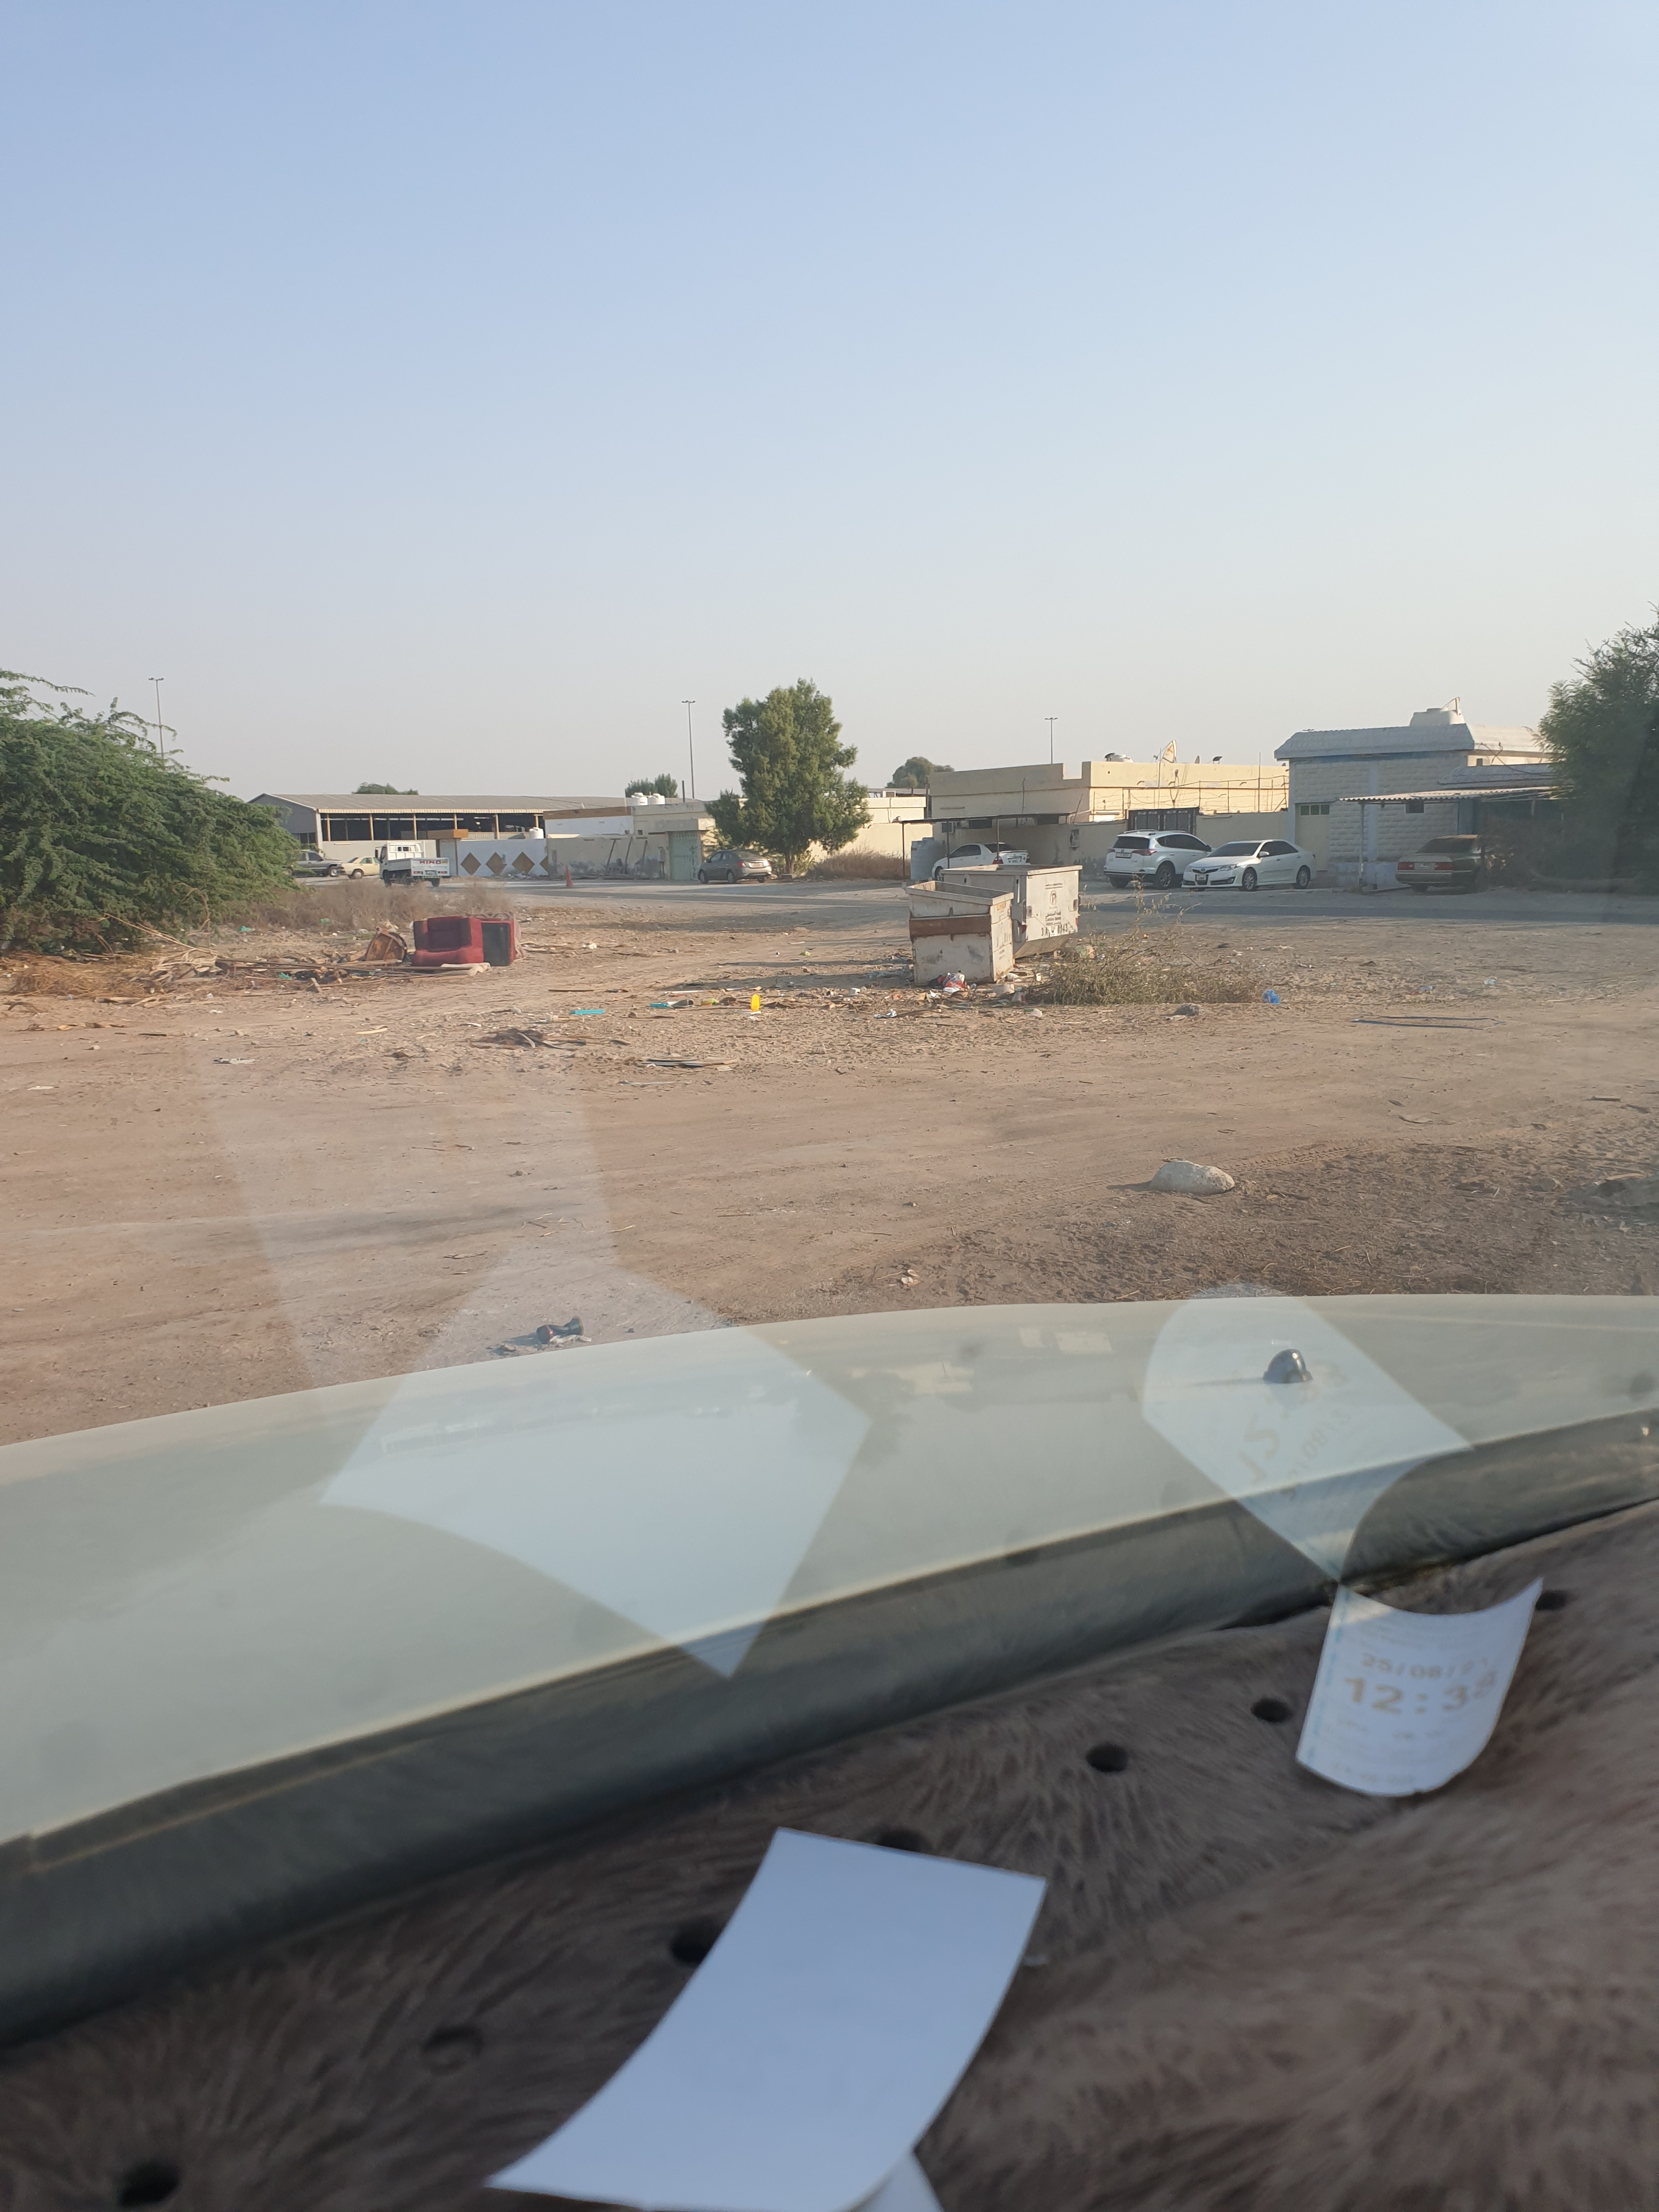fallen_trees: (35, 954, 359, 1022), (1025, 951, 1300, 1024)
uncollected_waste: (390, 911, 528, 972)
